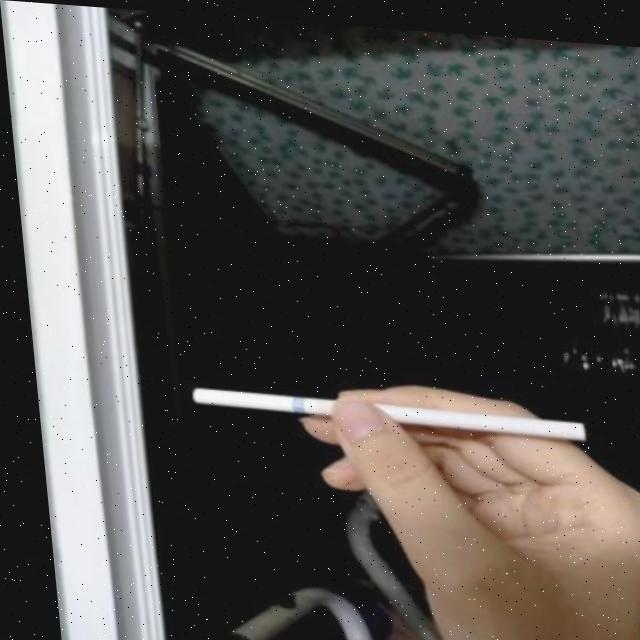cigarette: (184, 384, 579, 433)
